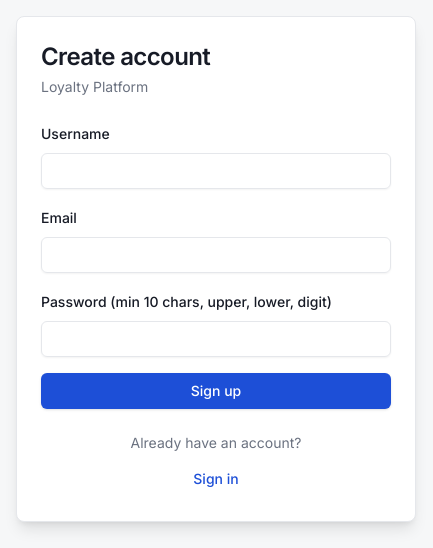
Test: SignUp › shows confirmation step after successful sign up (positive)
Step 1. Type "j" into the field labelled "Username" → (216, 171), box [41, 153, 391, 189]
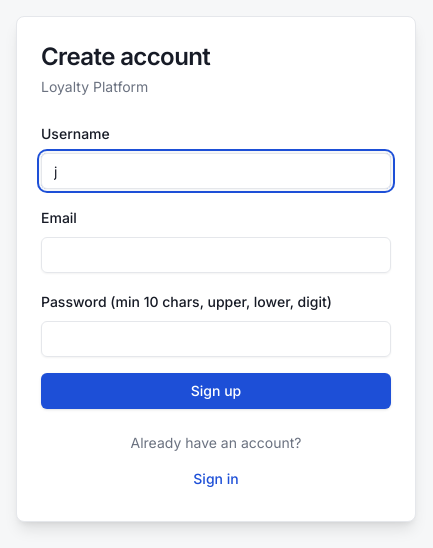
Step 2. Type "j@j.com" into the field labelled "Email" → (216, 255), box [41, 237, 391, 273]
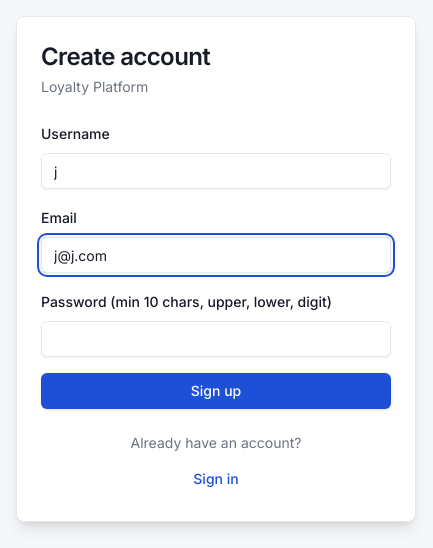
Step 3. Type "Password1234" into the password field labelled "Password (min 10 chars, upper, lower, digit)" → (216, 339), box [41, 321, 391, 357]
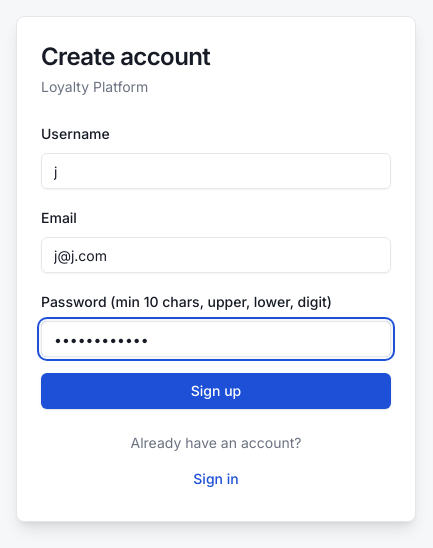
Step 4. Click the button "Sign up" → (216, 391), box [41, 373, 391, 409]
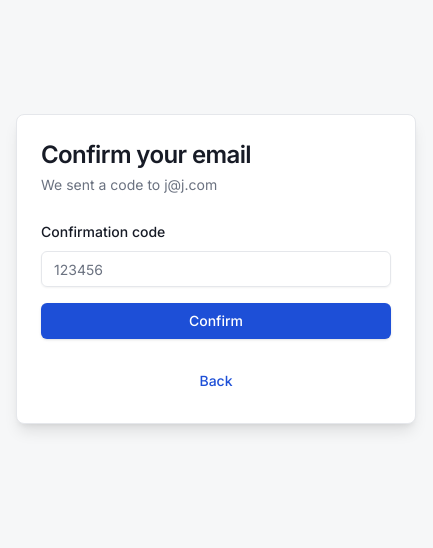
Expected: the field labelled "Confirmation code" is shown, [41, 251, 391, 287]
Result: the heading "Confirm your email" is shown at [41, 140, 251, 169]
